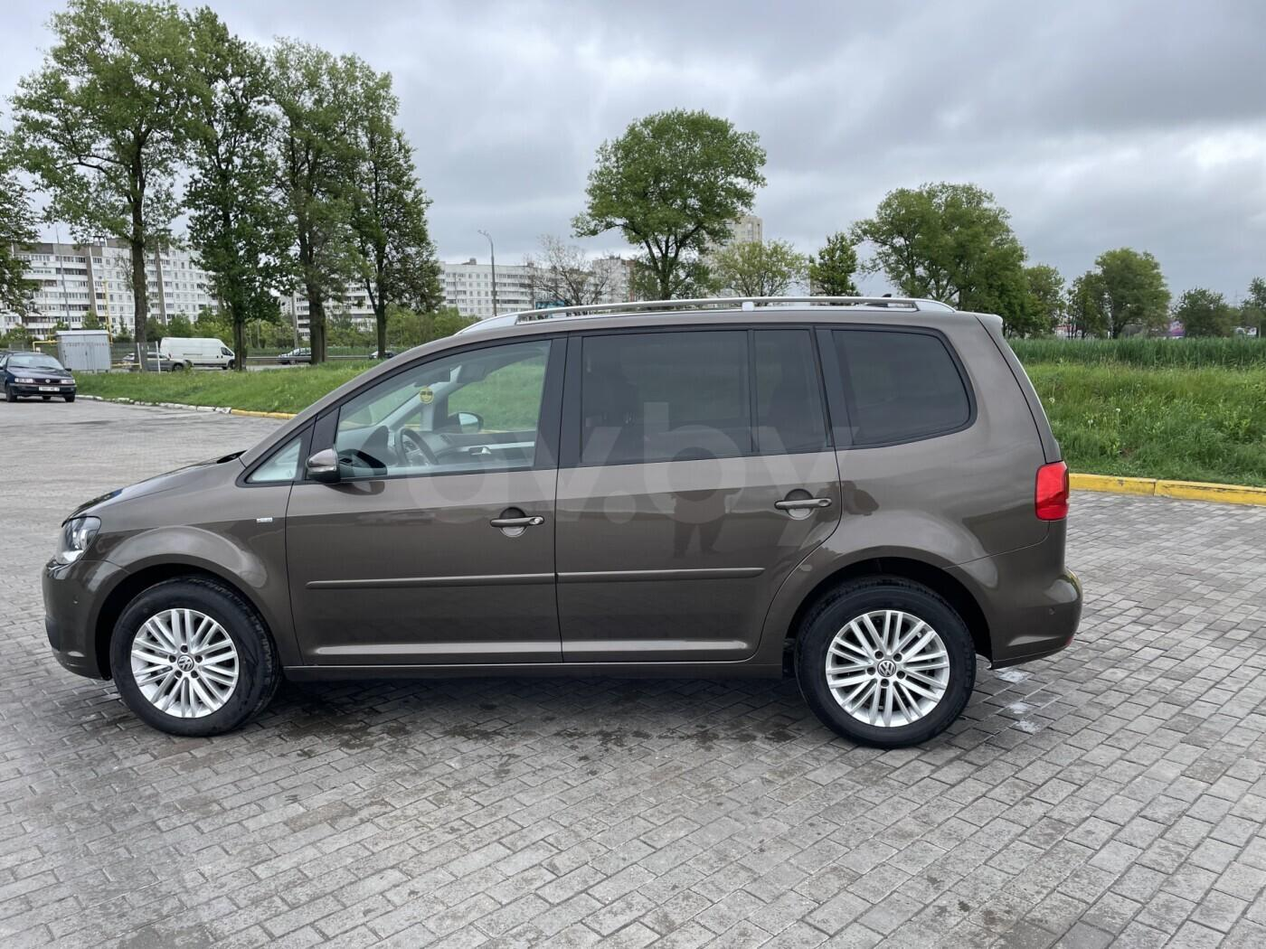Touran_2010-2015: (44, 297, 1089, 749)
